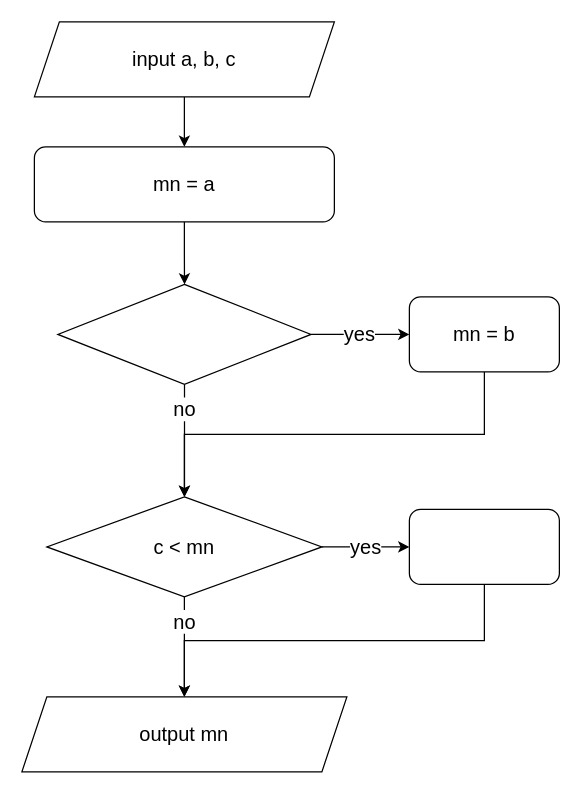
Some shapes in this 581 by 794 pixel diagram are drawn without their labels. The centre of each missing label's shape, as x and y in pixels:
"b < mn" belongs at pixel 184 333.
"mn = c" belongs at pixel 483 546.
